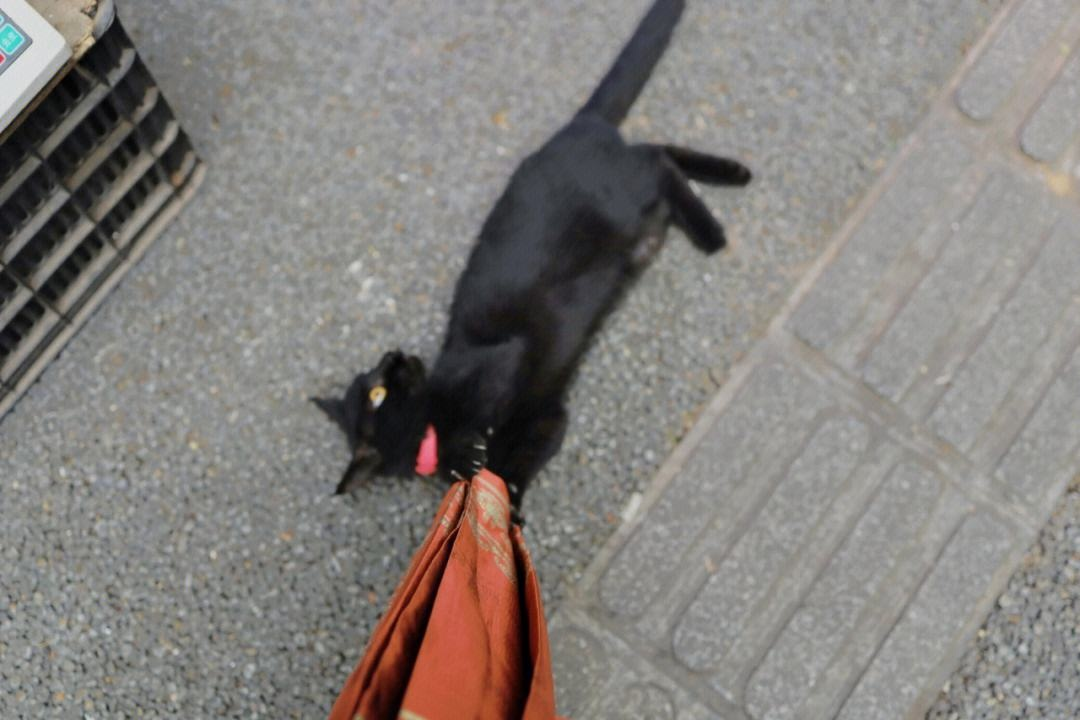cat: (309, 1, 755, 515)
